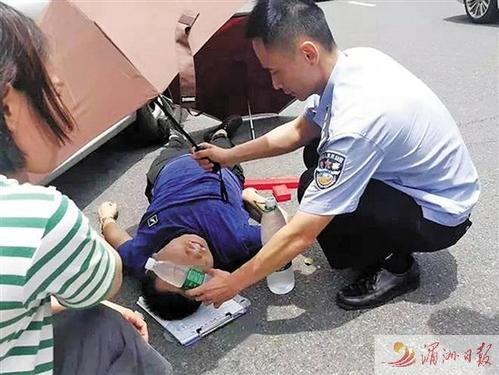fall: (103, 94, 279, 328)
